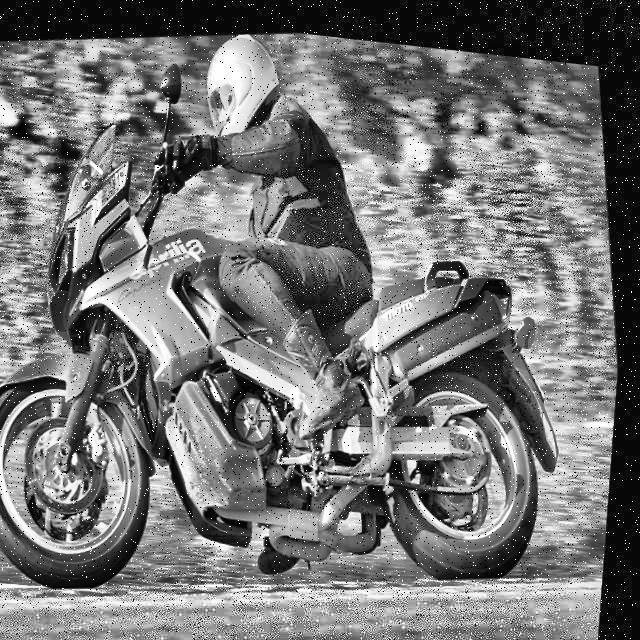Helmet: (194, 20, 293, 139)
